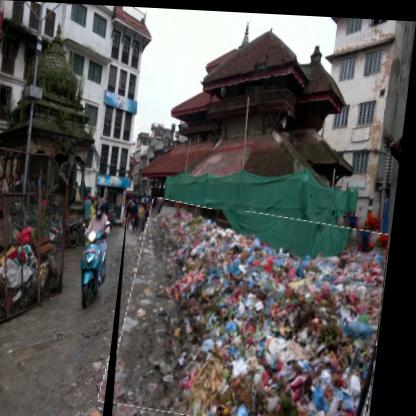Garbage: (113, 204, 398, 416)
